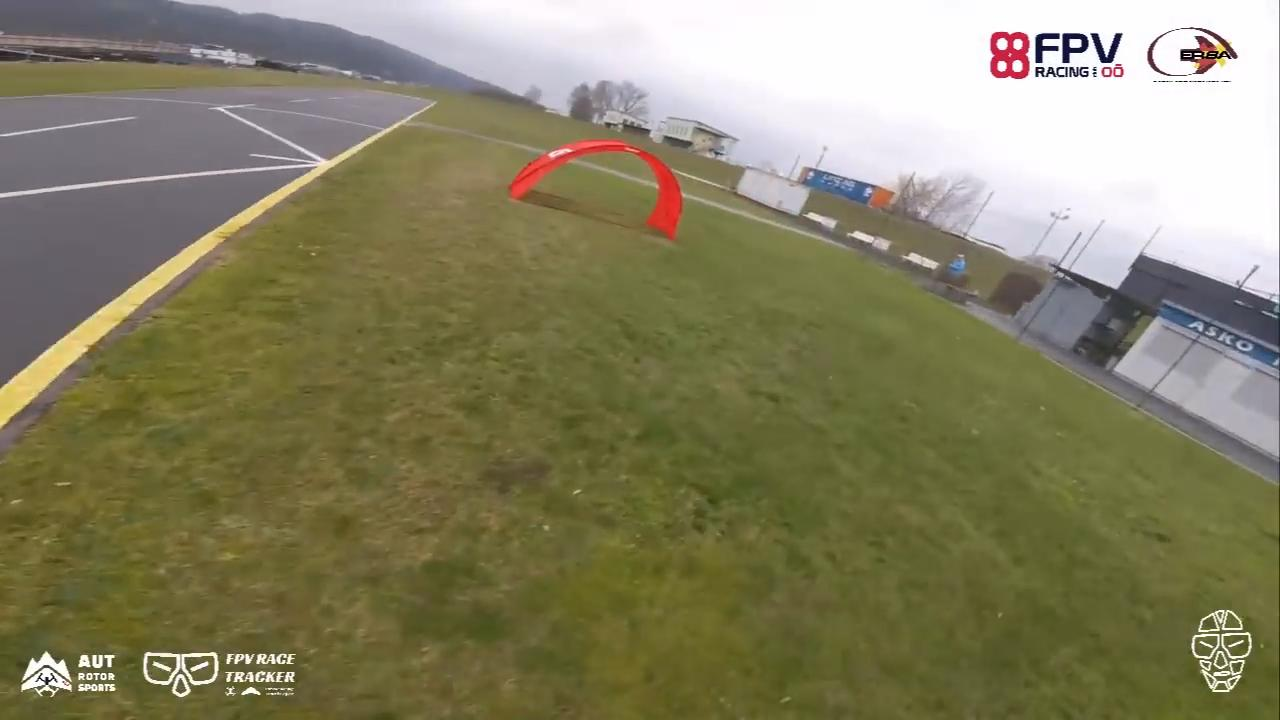gate: (503, 138, 685, 245)
